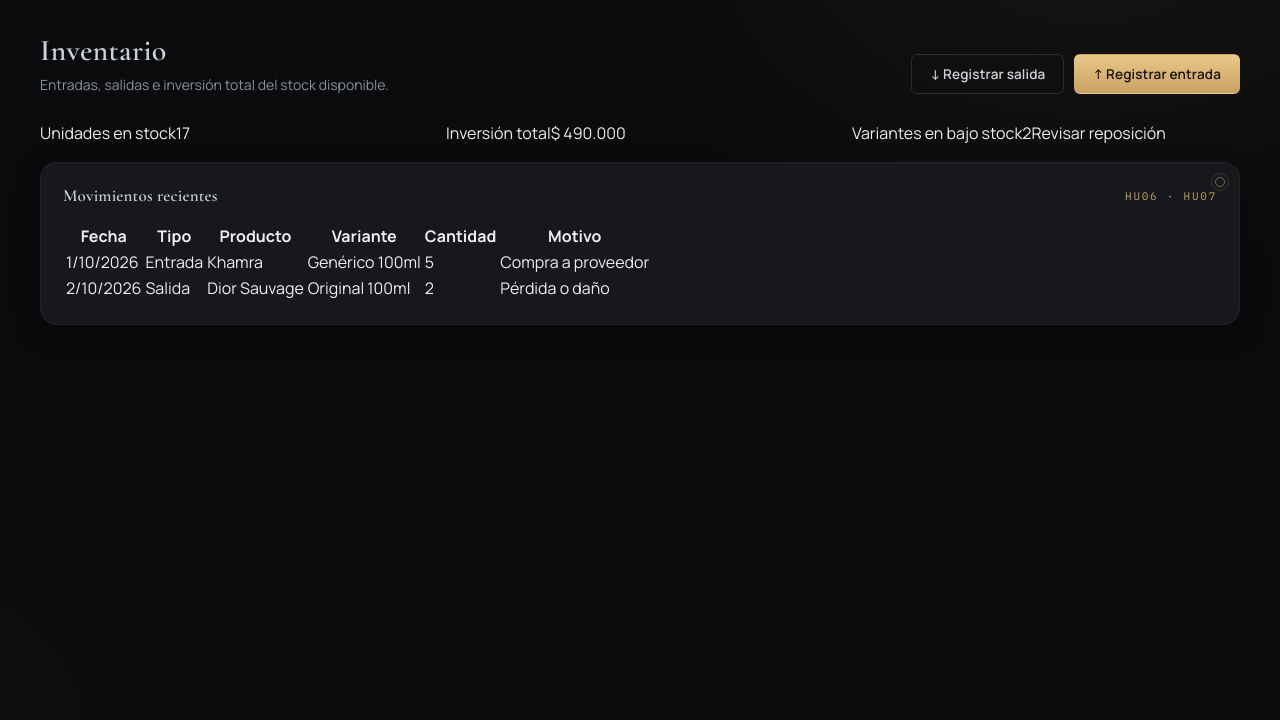
Inventario: formulario de movimientos › propone un motivo distinto para la entrada y para la salida
Expected: the text "Unidades en stock" is shown, [40,122,176,144]
Click the button "↑ Registrar entrada". click: (1157, 74)
box: [1074,54,1240,94]
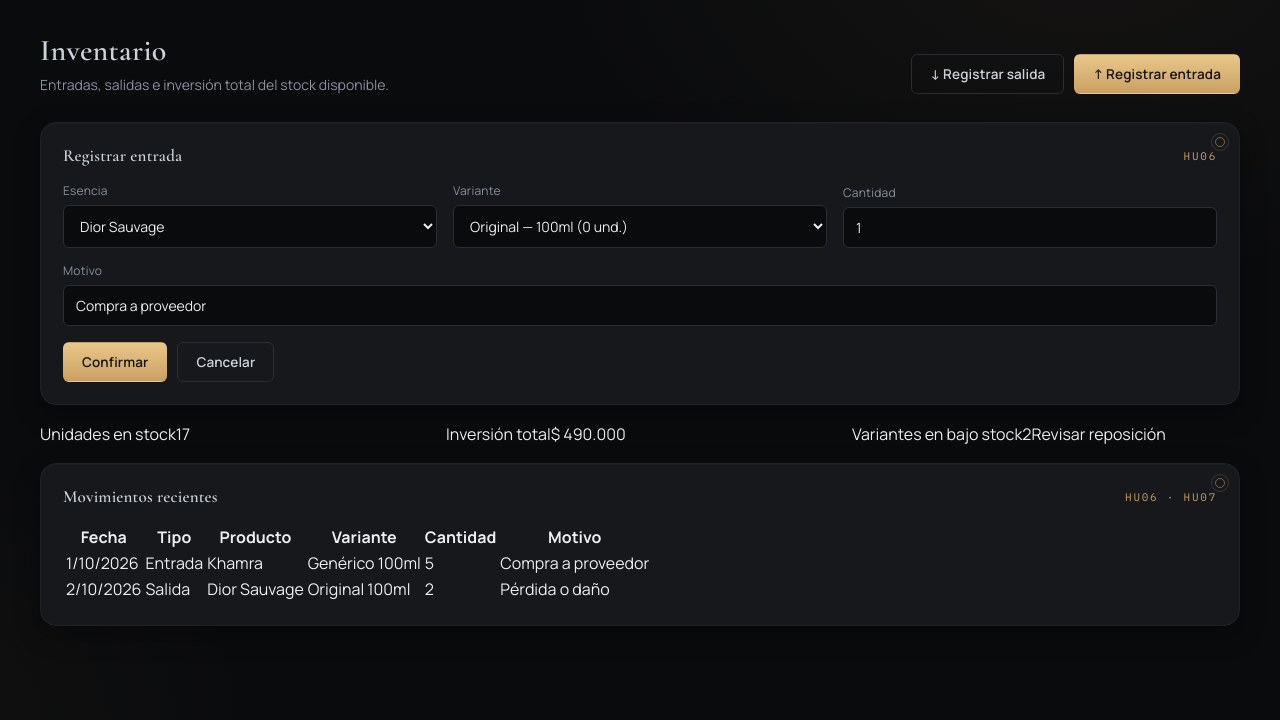
Expected: the field showing "Compra a proveedor" is shown, [63,285,1217,326]
Click the button "↑ Registrar entrada". click: (1157, 74)
box: [1074,54,1240,94]
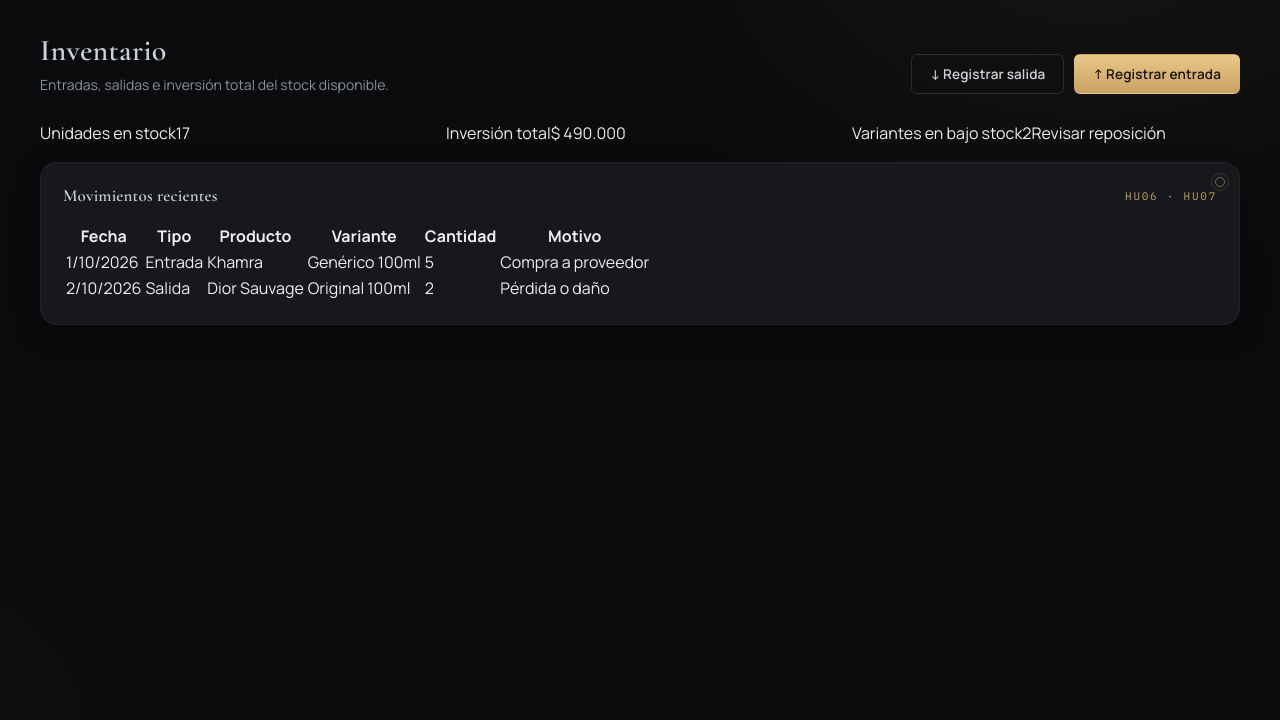
Click the button "↓ Registrar salida". click: (988, 74)
box: [912,54,1064,94]
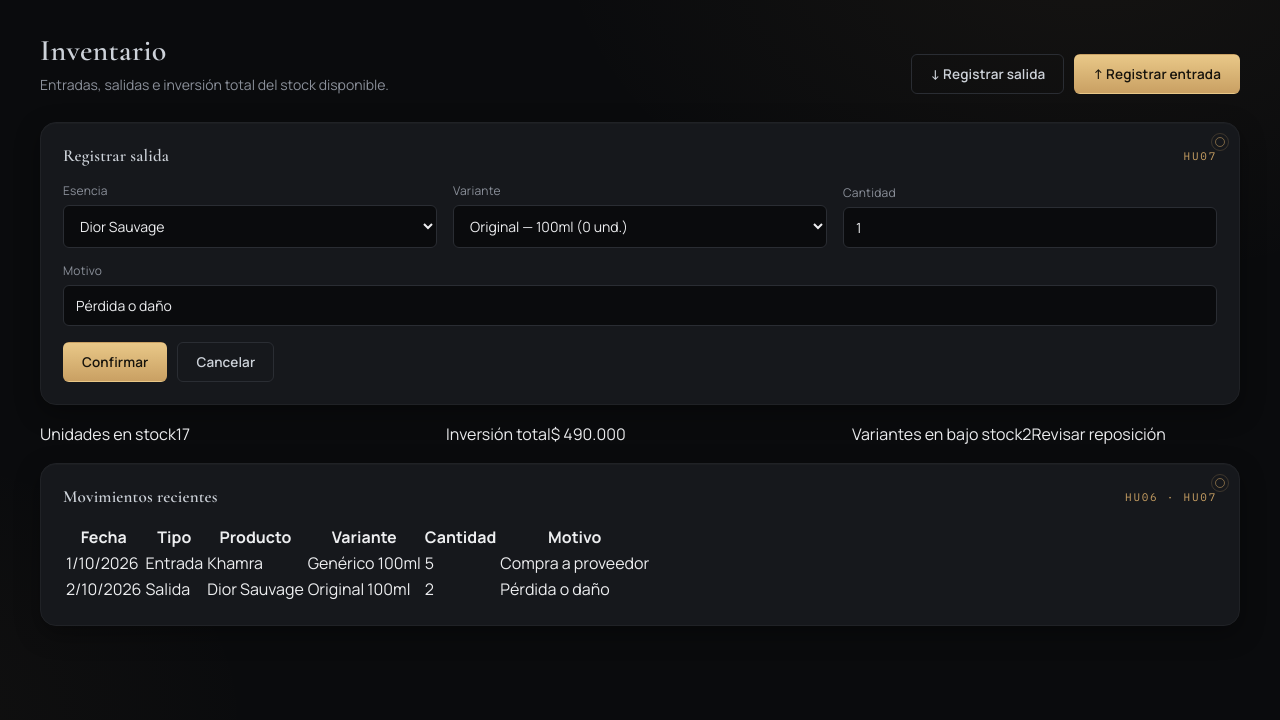
Expected: the heading "Registrar salida" is shown, [63,145,169,166]
Expected: the field showing "Pérdida o daño" is shown, [63,285,1217,326]
